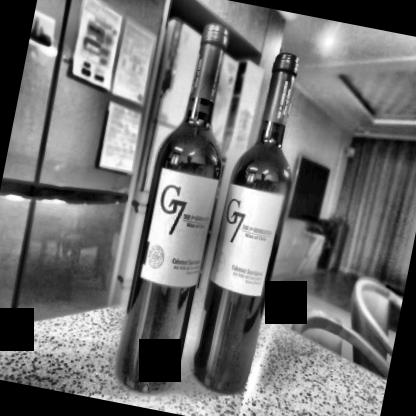G7: (140, 166, 218, 293), (209, 180, 284, 298)
